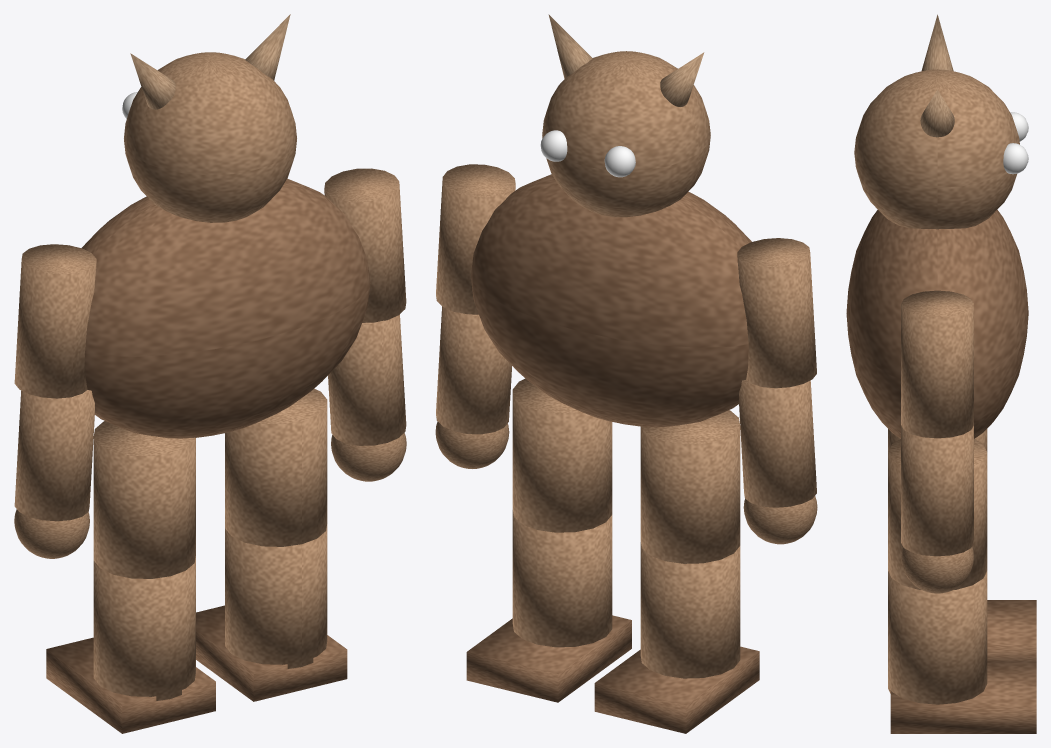
File: asura.glb
The picture shows the model from 3 angles, left to right: view 1: azimuth 30°, elevation 25°; view 2: azimuth 150°, elevation 25°; view 3: azimuth 270°, elevation 25°; orthographic projection. The views are drawn at different scales.
Visible parts, largest first — view 1: Torso, Head, ThighL, ThighR, ShinR, ShinL, UpperArmL, ForearmL, ForearmR, UpperArmR, FootL, FootR (+4 smaller); view 2: Torso, Head, ThighL, ThighR, ShinL, ShinR, UpperArmL, ForearmL, FootL, FootR, ForearmR, UpperArmR (+6 smaller); view 3: Torso, Head, ShinR, UpperArmR, ForearmR, FootR, ThighR, FootL, HandR, Horn.001, Horn, Eye.001.
Part boxes in pixels (bbox=[...]): Torso: bbox=[81, 178, 370, 438]; Head: bbox=[124, 52, 296, 222]; ThighL: bbox=[93, 421, 195, 578]; ThighR: bbox=[225, 388, 327, 546]; ShinR: bbox=[225, 524, 327, 668]; ShinL: bbox=[93, 556, 195, 700]; UpperArmL: bbox=[14, 244, 96, 398]; ForearmL: bbox=[14, 390, 94, 521]; ForearmR: bbox=[328, 314, 406, 445]; UpperArmR: bbox=[324, 168, 406, 322]; FootL: bbox=[46, 637, 215, 733]; FootR: bbox=[196, 605, 347, 701]; Torso: bbox=[470, 174, 751, 427]; Head: bbox=[542, 51, 710, 217]; ThighL: bbox=[640, 410, 740, 563]; ThighR: bbox=[512, 378, 612, 532]; ShinL: bbox=[640, 542, 740, 678]; ShinR: bbox=[512, 510, 612, 647]; UpperArmL: bbox=[737, 238, 816, 388]; ForearmL: bbox=[739, 380, 816, 507]; FootL: bbox=[594, 646, 759, 733]; FootR: bbox=[466, 615, 631, 702]; ForearmR: bbox=[436, 306, 511, 434]; UpperArmR: bbox=[436, 164, 515, 314]; Torso: bbox=[846, 209, 1028, 438]; Head: bbox=[854, 69, 1019, 229]; ShinR: bbox=[888, 571, 987, 704]; UpperArmR: bbox=[901, 290, 973, 438]; ForearmR: bbox=[901, 425, 973, 556]; FootR: bbox=[890, 661, 1036, 733]; ThighR: bbox=[888, 439, 987, 589]; FootL: bbox=[987, 600, 1036, 661]; HandR: bbox=[901, 547, 973, 593]; Horn.001: bbox=[920, 89, 954, 137]; Horn: bbox=[921, 14, 953, 71]; Eye.001: bbox=[1003, 143, 1028, 174].
Size of the model in its own units: 0.5982 by 0.9793 by 0.2679.
Materials: 4 (3 with a texture image).
